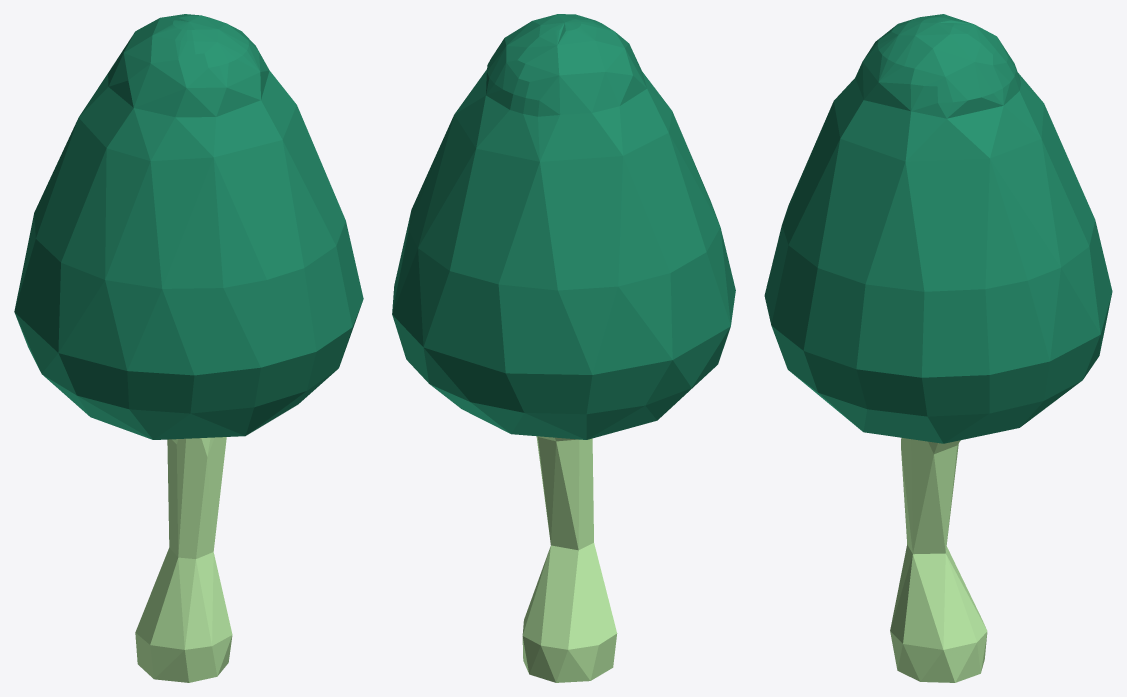
Rendered from mushroom2.fbx.
The picture shows the model from 3 angles, left to right: view 1: azimuth 30°, elevation 25°; view 2: azimuth 150°, elevation 25°; view 3: azimuth 270°, elevation 25°; orthographic projection.
Visible parts, largest first — view 1: mushroom2; view 2: mushroom2; view 3: mushroom2.
Boxes of the visible parts, bbox=[...] form: mushroom2: bbox=[14, 14, 363, 682]; mushroom2: bbox=[392, 14, 735, 682]; mushroom2: bbox=[764, 14, 1112, 682].
Size of the model in its own units: 135 by 276 by 135.
